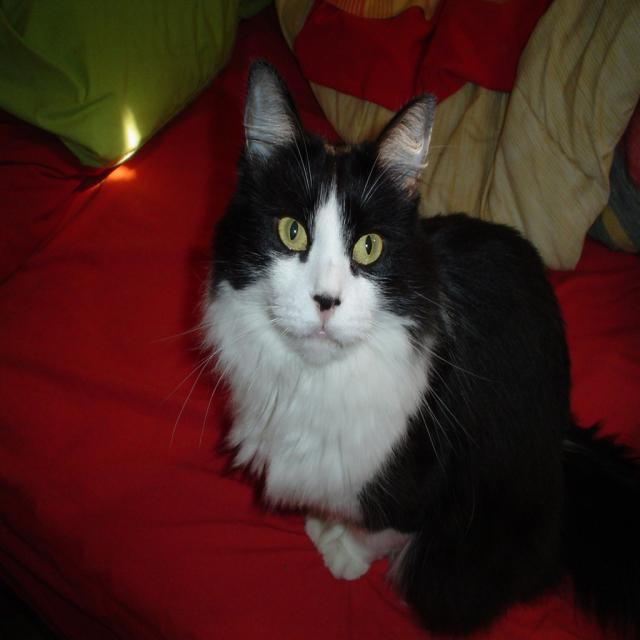Cat: (148, 50, 640, 639)
